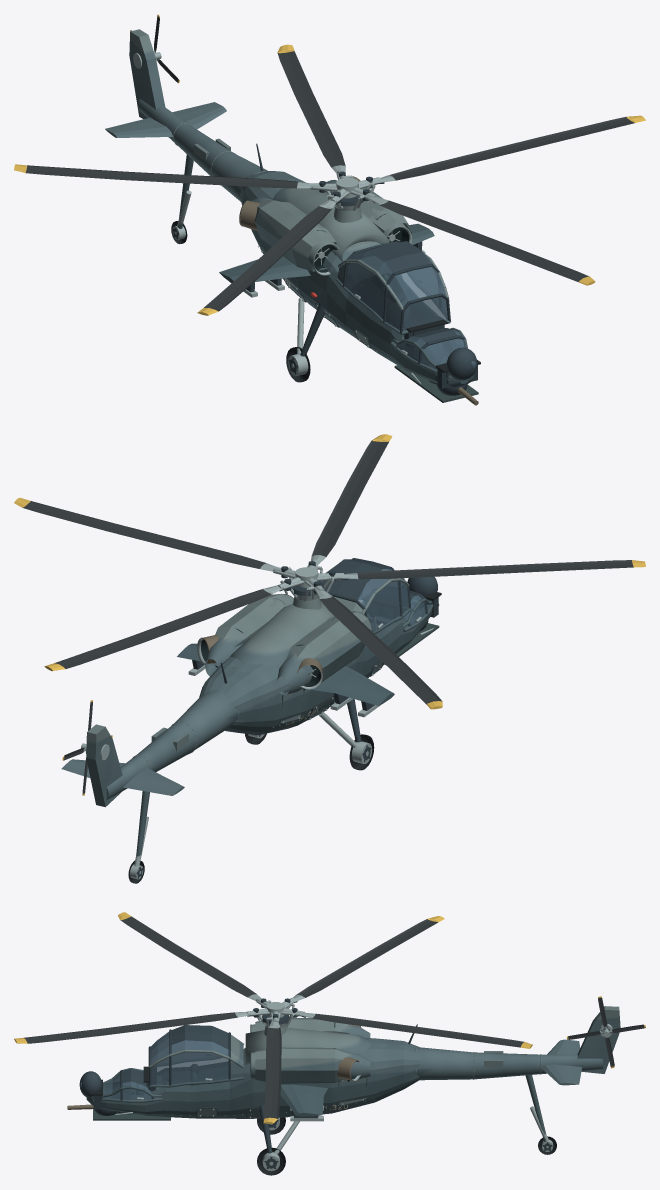
Rendered from SANBI.glb.
3 renders of one model, top to bottom at view 1: azimuth 30°, elevation 25°; view 2: azimuth 150°, elevation 25°; view 3: azimuth 270°, elevation 25°, orthographic. The views are drawn at different scales.
Visible parts, largest first — view 1: Airframe, MainRotor; view 2: Airframe, MainRotor; view 3: Airframe, MainRotor, TailRotor.
Part boxes in pixels (x1=…): Airframe: x1=105, y1=29, x2=480, y2=405; MainRotor: x1=14, y1=44, x2=645, y2=315; Airframe: x1=61, y1=558, x2=441, y2=883; MainRotor: x1=14, y1=434, x2=645, y2=709; Airframe: x1=67, y1=1004, x2=620, y2=1175; MainRotor: x1=14, y1=912, x2=532, y2=1123; TailRotor: x1=567, y1=996, x2=645, y2=1068.
Size of the model in its own units: 11.93 by 4.3 by 15.15.
Materials: 15 (2 with a texture image).
